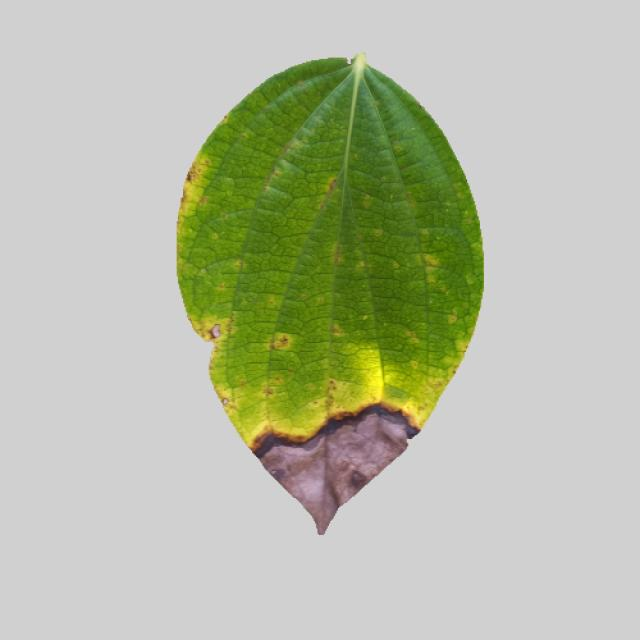leaf-blight: (170, 59, 492, 530)
